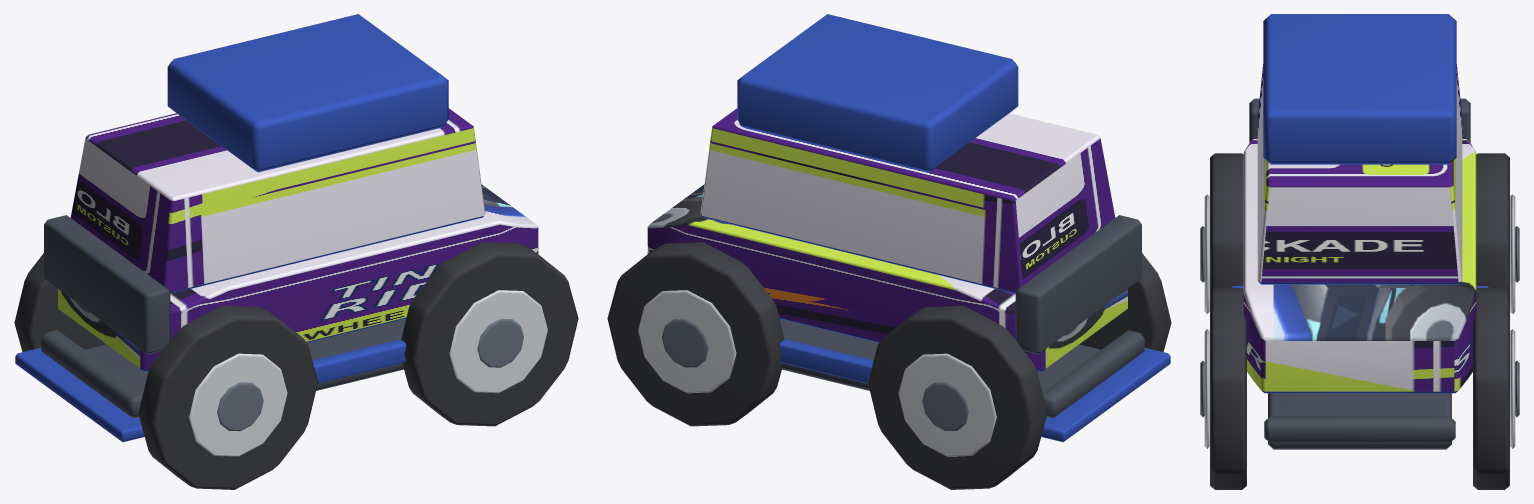
The picture shows the model from 3 angles, left to right: view 1: azimuth 30°, elevation 25°; view 2: azimuth 150°, elevation 25°; view 3: azimuth 270°, elevation 25°; orthographic projection. The views are drawn at different scales.
Visible parts, largest first — view 1: BW-02_cabin, armored roof canopy, BW-02_connected_shell, Tire, Tire.002, armored face guard, Rim, Rim.002, custom chin, underbody, Tire.001, front bumper (+3 smaller); view 2: BW-02_cabin, armored roof canopy, BW-02_connected_shell, Tire.001, Tire.003, armored face guard, Rim.001, Rim.003, custom chin, underbody, Tire, front bumper (+3 smaller); view 3: armored roof canopy, BW-02_connected_shell, BW-02_cabin, Tire.002, Tire.003, underbody, rear bumper, Tire, Tire.001, armored face guard, Rim.002, Rim.003 (+2 smaller).
Part boxes in pixels (box(x1,y1,x2,y2)): BW-02_cabin: box(70, 108, 485, 293); armored roof canopy: box(167, 14, 448, 172); BW-02_connected_shell: box(58, 184, 538, 371); Tire: box(138, 306, 317, 489); Tire.002: box(401, 242, 578, 426); armored face guard: box(44, 215, 170, 354); Rim: box(189, 353, 287, 456); Rim.002: box(449, 290, 547, 393); custom chin: box(15, 347, 144, 442); underbody: box(85, 319, 405, 392); Tire.001: box(14, 253, 106, 351); front bumper: box(41, 330, 143, 418); BW-02_cabin: box(700, 108, 1115, 293); armored roof canopy: box(737, 14, 1018, 172); BW-02_connected_shell: box(647, 184, 1127, 371); Tire.001: box(868, 306, 1047, 489); Tire.003: box(607, 242, 784, 426); armored face guard: box(1015, 215, 1141, 354); Rim.001: box(898, 353, 996, 456); Rim.003: box(638, 290, 736, 393); custom chin: box(1041, 347, 1170, 442); underbody: box(780, 319, 1100, 392); Tire: box(1079, 253, 1171, 351); front bumper: box(1042, 330, 1144, 418); armored roof canopy: box(1263, 14, 1456, 164); BW-02_connected_shell: box(1243, 136, 1476, 393); BW-02_cabin: box(1257, 64, 1462, 284); Tire.002: box(1210, 288, 1246, 489); Tire.003: box(1473, 288, 1509, 489); underbody: box(1268, 393, 1451, 449); rear bumper: box(1264, 416, 1455, 442); Tire: box(1210, 153, 1243, 291); Tire.001: box(1476, 153, 1509, 291); armored face guard: box(1249, 98, 1470, 142); Rim.002: box(1204, 329, 1209, 448); Rim.003: box(1510, 329, 1515, 448).
Size of the model in its own units: 381 by 279 by 225.
